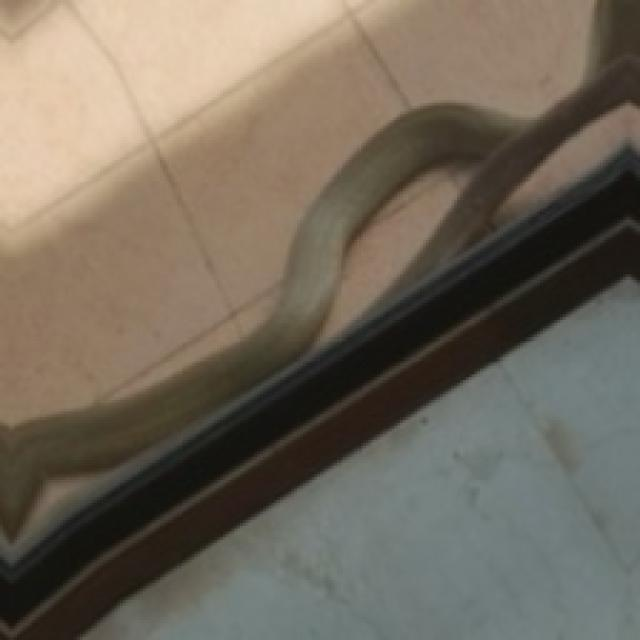king cobra: (0, 0, 591, 531), (0, 57, 637, 534), (0, 0, 591, 423), (323, 166, 466, 334), (326, 169, 466, 331), (494, 106, 637, 220)
